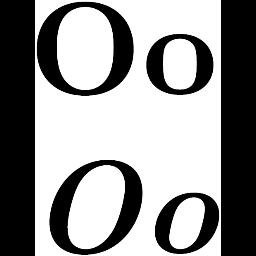o: (43, 150, 149, 256), (35, 0, 135, 102), (144, 30, 218, 98), (151, 188, 221, 256)
